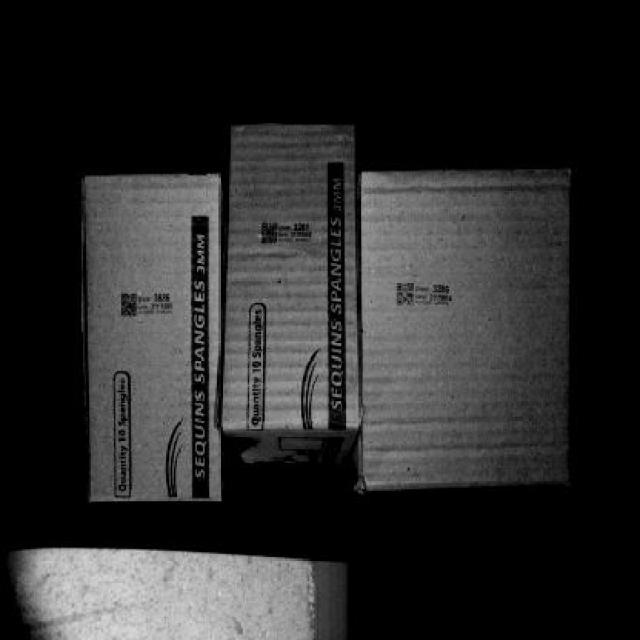box: (362, 172, 573, 486), (83, 178, 225, 506), (234, 123, 360, 431)
